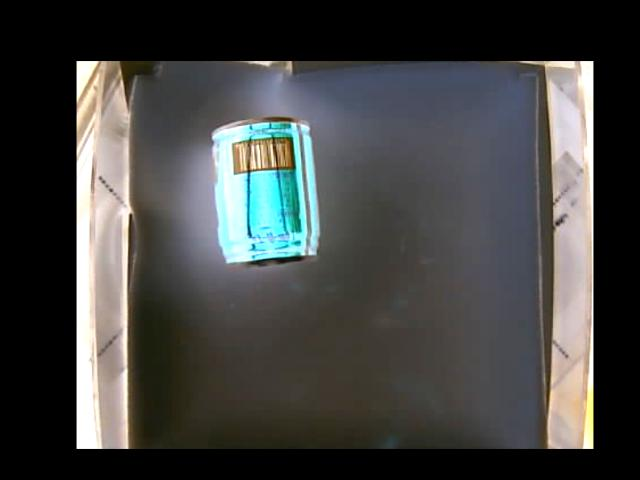Bottle: (211, 118, 319, 268)
